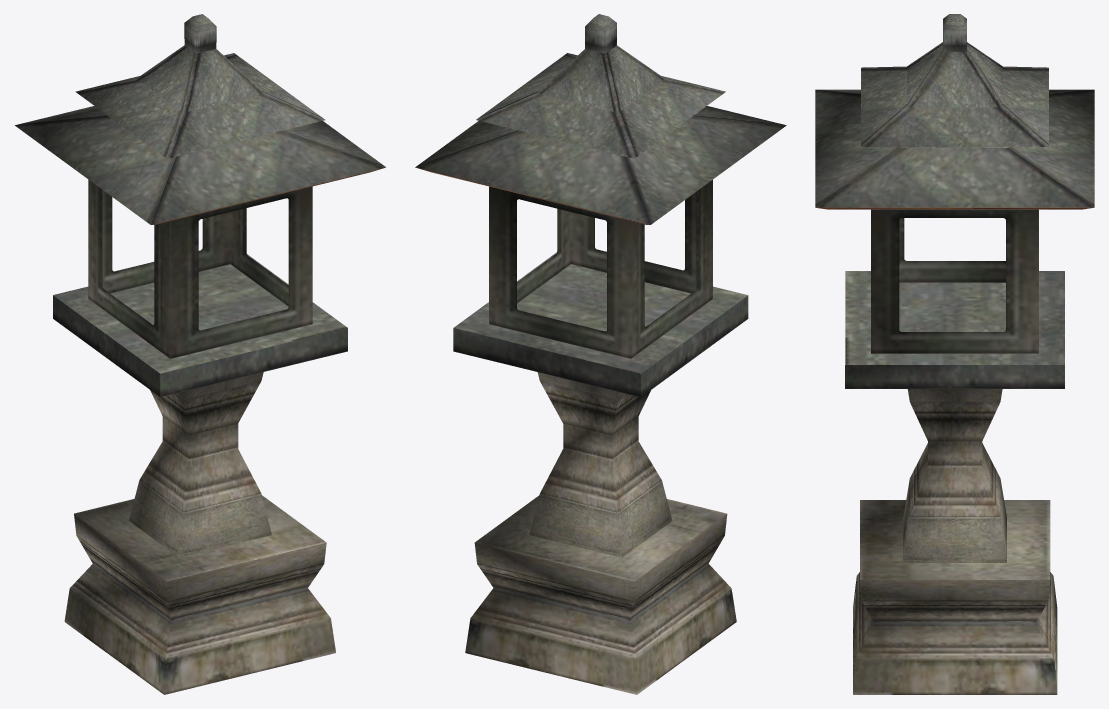
The model's file is cj_field_lamp.glb.
3 views of the same model, side by side, from view 1: azimuth 30°, elevation 25°; view 2: azimuth 150°, elevation 25°; view 3: azimuth 270°, elevation 25° (orthographic). The views are drawn at different scales.
Visible parts, largest first — view 1: CJ_pal_lamp, CJ_pal_lamp_al; view 2: CJ_pal_lamp, CJ_pal_lamp_al; view 3: CJ_pal_lamp, CJ_pal_lamp_al.
Part boxes in pixels (bbox=[...]): CJ_pal_lamp: bbox=[15, 14, 385, 694]; CJ_pal_lamp_al: bbox=[53, 53, 347, 373]; CJ_pal_lamp: bbox=[415, 14, 786, 694]; CJ_pal_lamp_al: bbox=[454, 53, 747, 373]; CJ_pal_lamp: bbox=[815, 14, 1094, 694]; CJ_pal_lamp_al: bbox=[845, 66, 1064, 364].
Size of the model in its own units: 1.03 by 2.59 by 1.03.
2 materials, 2 textured.
